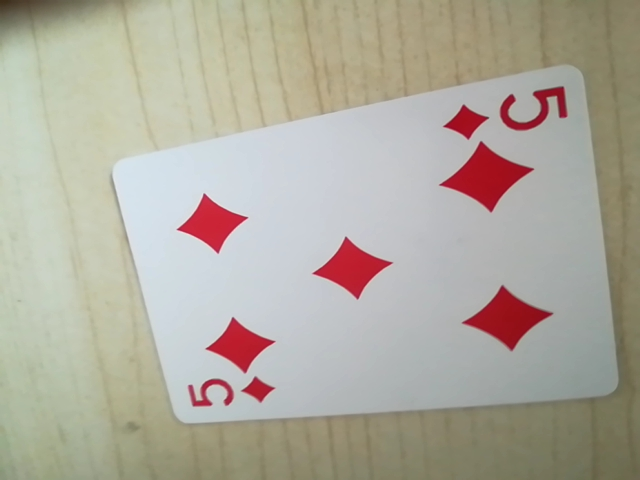fk 5: (442, 82, 572, 145), (182, 368, 281, 417)
